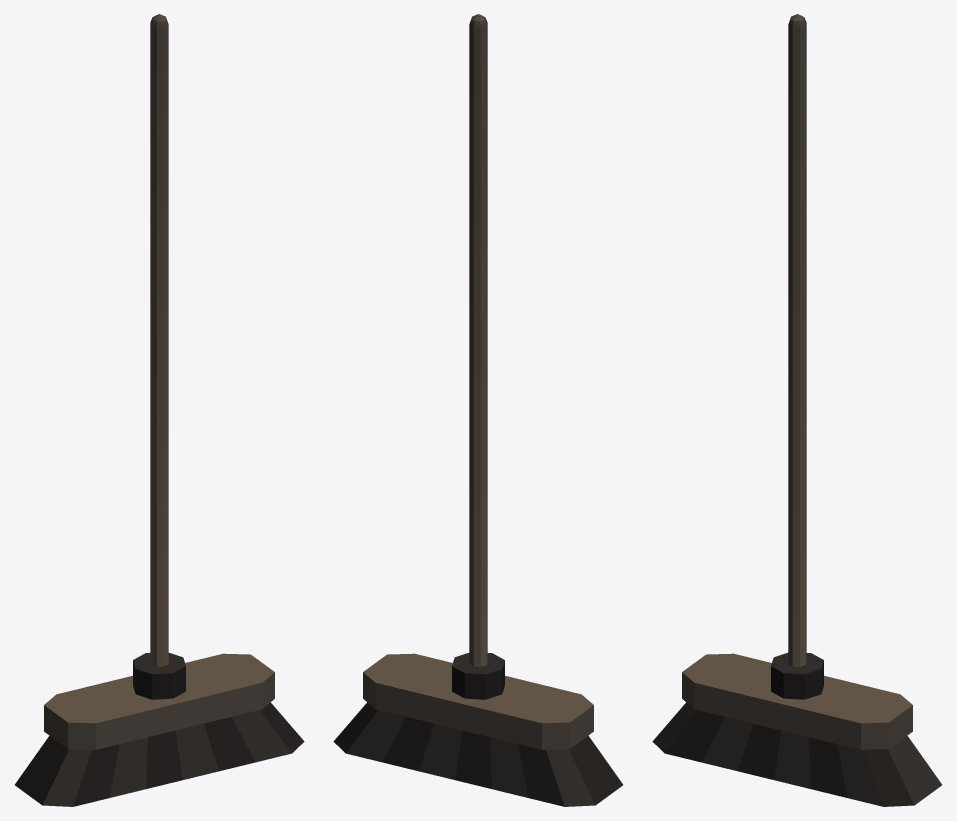
The model's file is human-household-items-push-broom_v1.glb.
The picture shows the model from 3 angles, left to right: view 1: azimuth 30°, elevation 25°; view 2: azimuth 150°, elevation 25°; view 3: azimuth 330°, elevation 25°; orthographic projection.
Visible parts, largest first — view 1: Push Broom; view 2: Push Broom; view 3: Push Broom.
Boxes of the visible parts, x1,y1,x2,y2 form: Push Broom: (15, 14, 304, 806); Push Broom: (333, 14, 622, 806); Push Broom: (652, 14, 941, 806).
Bounding box in the file's own units: 0.5492 × 1.5 × 0.1681.
